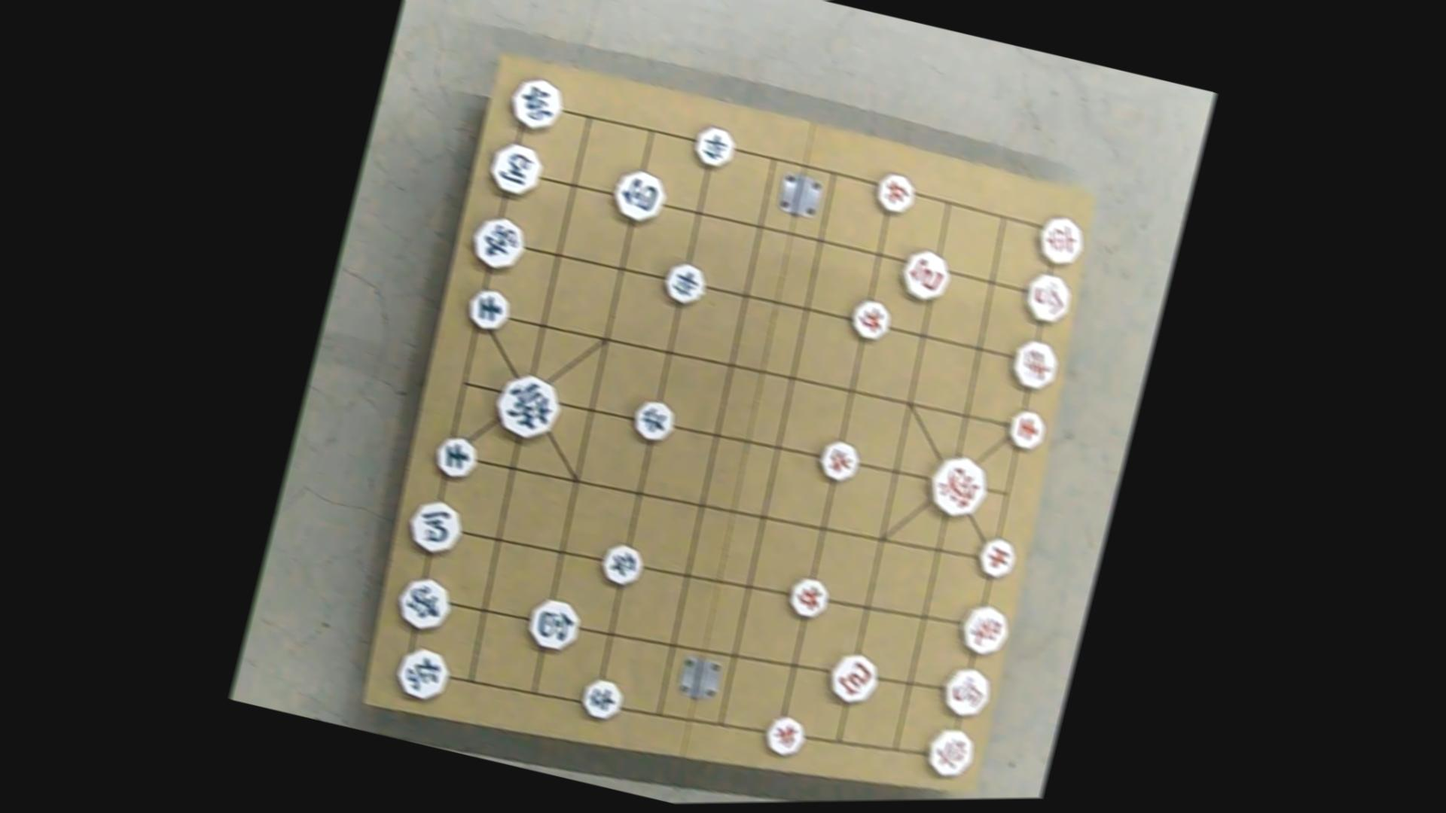cha_green: (505, 72, 566, 133), (395, 643, 453, 700)
cha_red: (1032, 212, 1088, 269), (923, 727, 978, 783)
jol_green: (579, 672, 627, 720), (660, 261, 709, 308), (630, 397, 678, 444), (692, 123, 740, 170), (599, 544, 646, 589)
jol_red: (787, 573, 834, 620), (816, 435, 863, 482), (873, 169, 919, 216), (762, 714, 808, 759), (848, 297, 894, 342)
ma_green: (405, 499, 467, 559), (487, 139, 546, 199)
ma_red: (938, 662, 996, 720), (1020, 271, 1075, 326)
po_green: (524, 595, 584, 654), (608, 169, 668, 227)
po_red: (895, 245, 953, 304), (825, 647, 882, 705)
sa_green: (467, 283, 515, 330), (432, 431, 480, 478)
sa_red: (975, 534, 1020, 580), (1005, 409, 1049, 455)
sang_green: (395, 572, 456, 632), (466, 213, 527, 273)
sang_red: (957, 601, 1014, 658), (1005, 338, 1060, 393)
wang_green: (493, 372, 566, 444)
wang_red: (924, 455, 992, 523)
